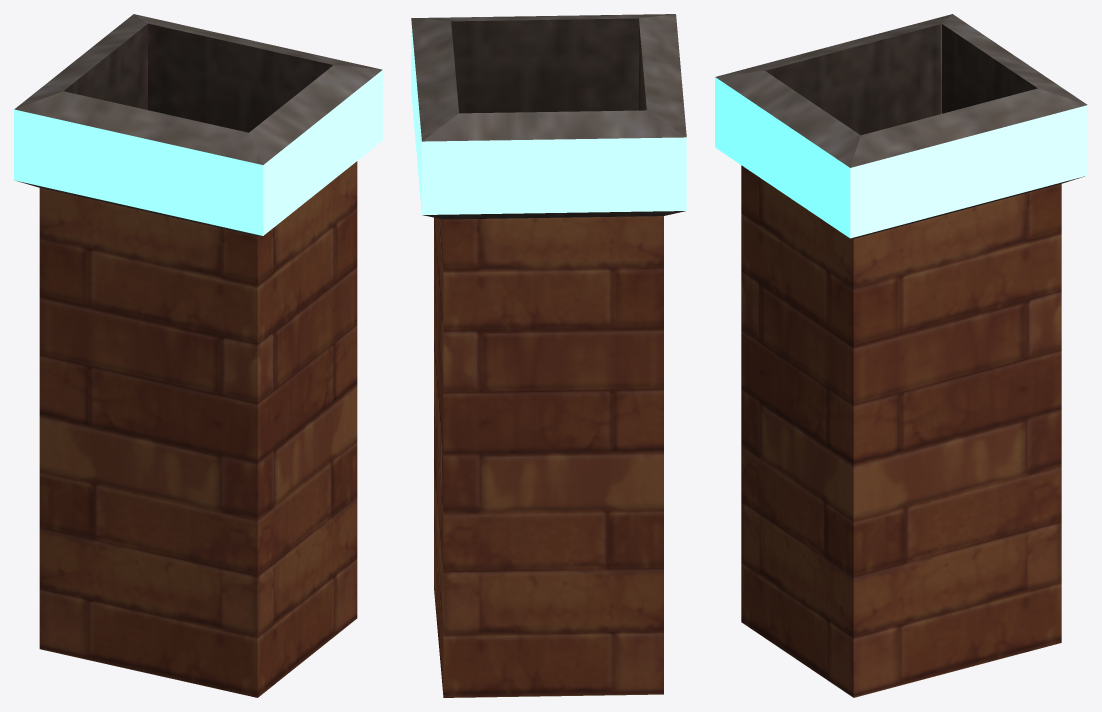
The model's file is Chimney5.glb.
3 views of the same model, side by side, from view 1: azimuth 30°, elevation 25°; view 2: azimuth 150°, elevation 25°; view 3: azimuth 270°, elevation 25° (orthographic). The views are drawn at different scales.
Visible parts, largest first — view 1: Chimmney.005; view 2: Chimmney.005; view 3: Chimmney.005.
Part boxes in pixels (box(x1,y1,x2,y2)): Chimmney.005: box(14, 14, 382, 697); Chimmney.005: box(411, 14, 686, 697); Chimmney.005: box(715, 14, 1087, 697).
Size of the model in its own units: 1.08 by 1.81 by 1.11.
3 materials, 2 textured.
